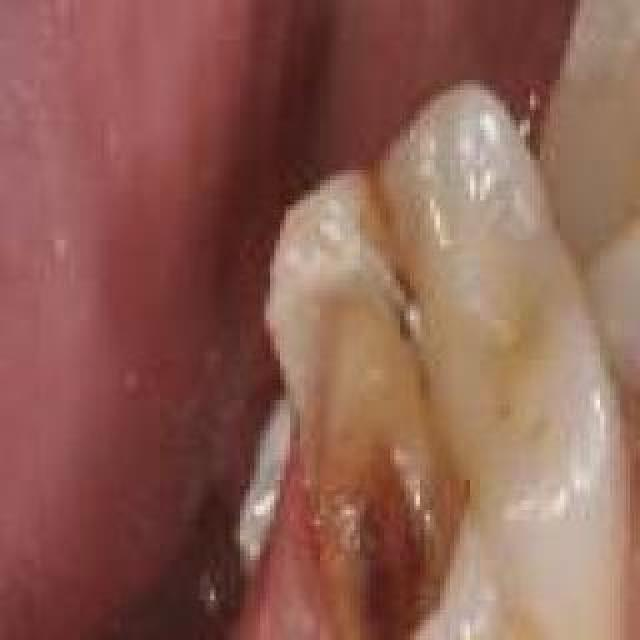cavities: (280, 304, 496, 640)
